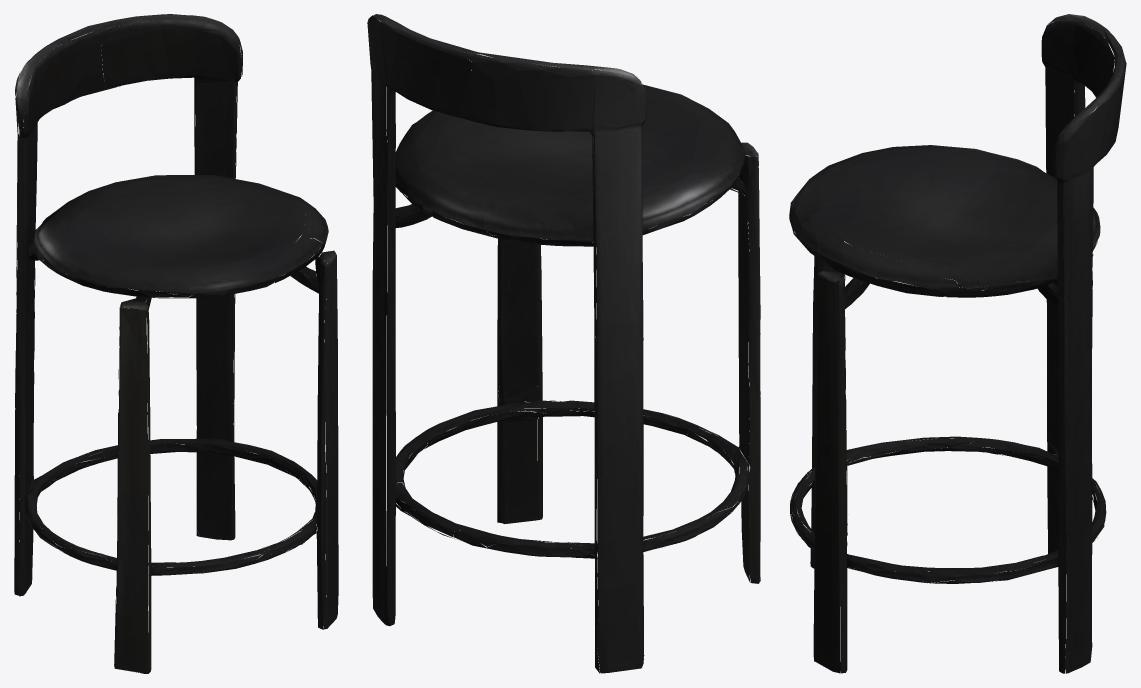
File: m-tabouret.glb
The picture shows the model from 3 angles, left to right: view 1: azimuth 30°, elevation 25°; view 2: azimuth 150°, elevation 25°; view 3: azimuth 270°, elevation 25°; orthographic projection. The views are drawn at different scales.
Visible parts, largest first — view 1: geometry_0; view 2: geometry_0; view 3: geometry_0.
Part boxes in pixels (box(x1,y1,x2,y2)): geometry_0: box(14, 14, 338, 673); geometry_0: box(367, 14, 760, 673); geometry_0: box(789, 14, 1126, 673).
Size of the model in its own units: 0.5271 by 1 by 0.5462.
1 material, 1 textured.
